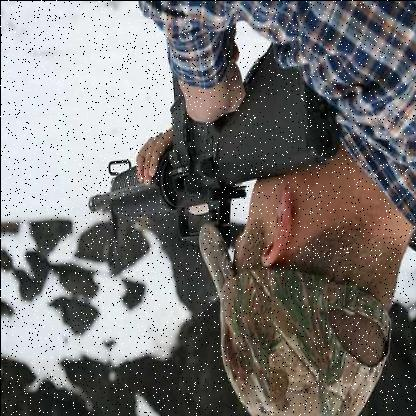rifle: (76, 12, 339, 268)
